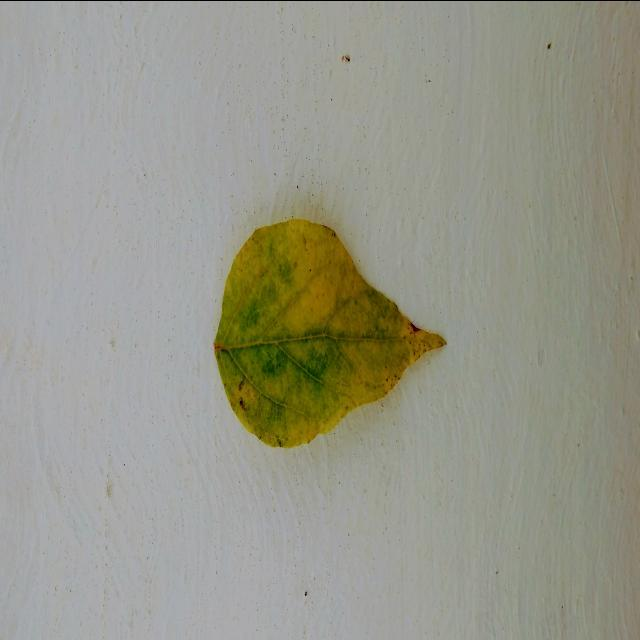leaf: (212, 216, 447, 448)
